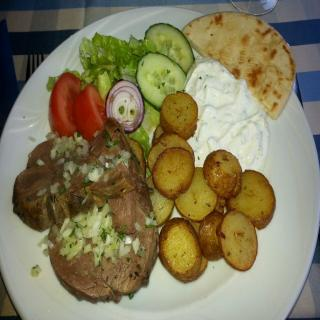Potato: (126, 90, 276, 272), (156, 210, 210, 280), (160, 91, 198, 141)
